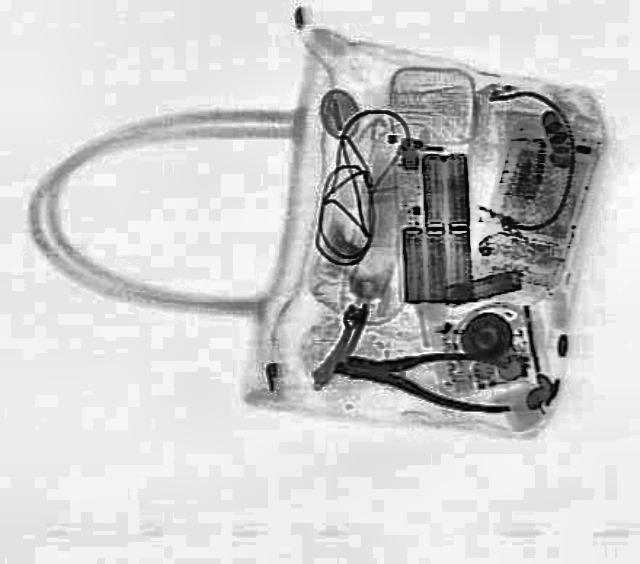Pliers: (326, 330, 522, 417)
